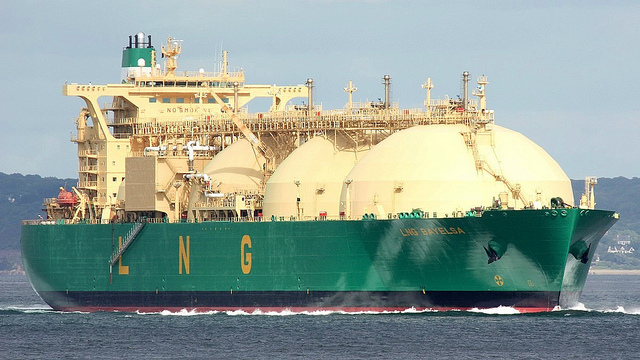LNG_ship: (16, 33, 615, 313)
